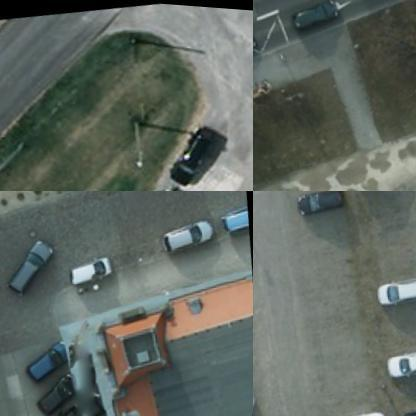car: (161, 113, 229, 189), (6, 232, 66, 292), (157, 207, 221, 249), (27, 328, 80, 376), (40, 364, 90, 414), (67, 245, 124, 285), (291, 0, 349, 29), (296, 191, 356, 214), (378, 266, 415, 302), (223, 191, 252, 228), (331, 400, 399, 415), (43, 398, 91, 415), (394, 341, 415, 371), (253, 20, 266, 63), (253, 377, 265, 415)
